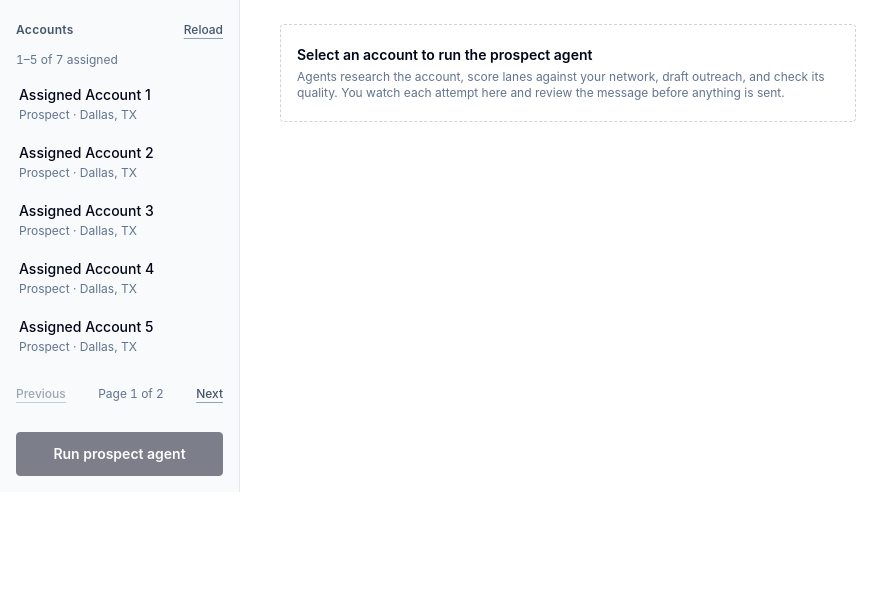
Scenario: ProspectWorkspace account selection and progress › clears a start error when manual pagination hides the selected account
This screenshot has width=873, height=615.
Click the button "Assigned Account 1 Prospect · Dallas, TX" at (120, 104), box [8, 76, 231, 132]
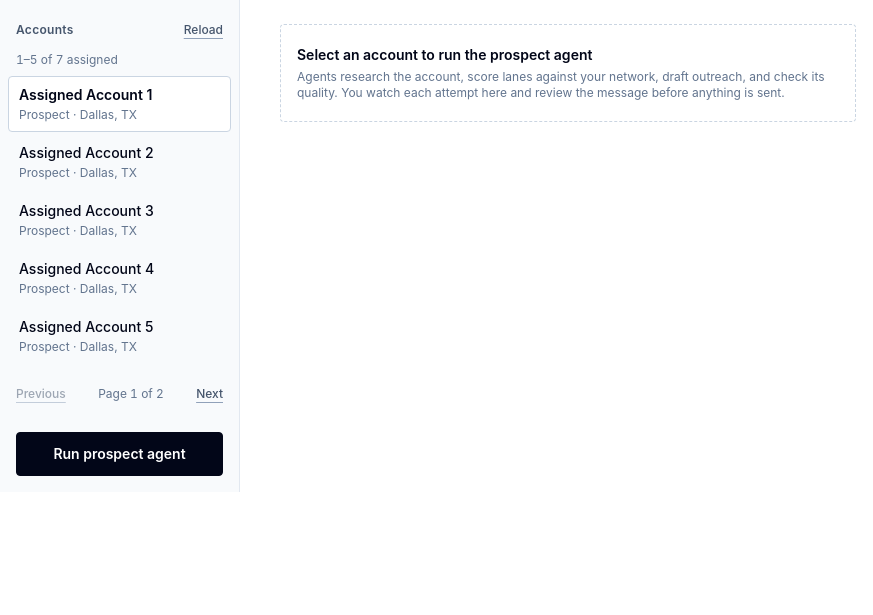
Click the button "Run prospect agent" at (120, 454), box [16, 432, 223, 476]
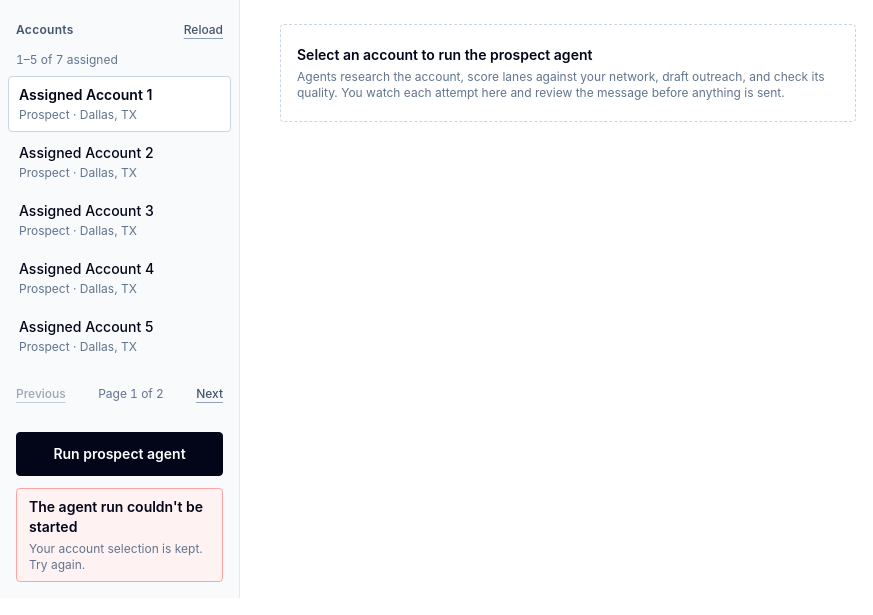
Check: the message shows "The agent run couldn't be started", box [29, 498, 203, 535]
Click the button "Next" at (210, 394), box [196, 372, 223, 416]
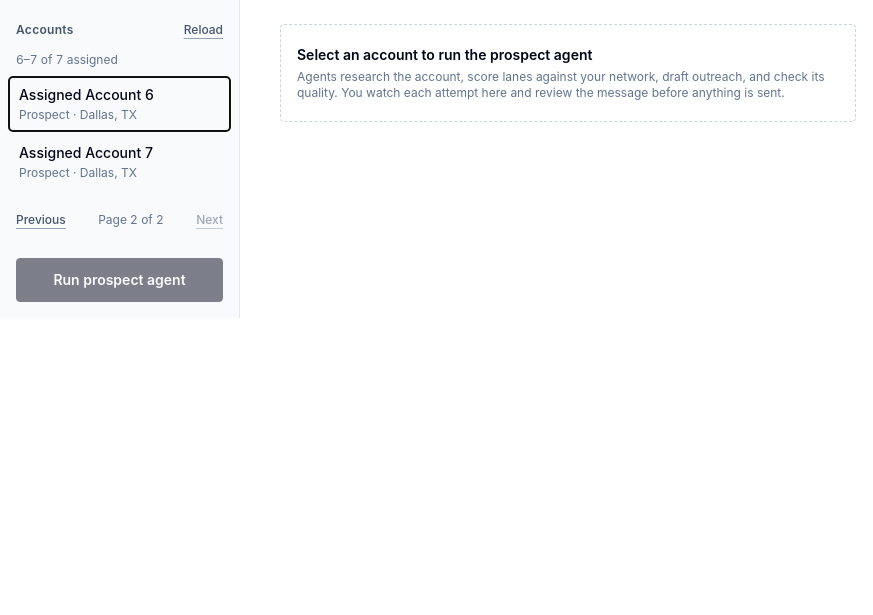
Check: the text "The agent run couldn't be started" is gone
Check: the button "Run prospect agent" is disabled, box [16, 258, 223, 302]
